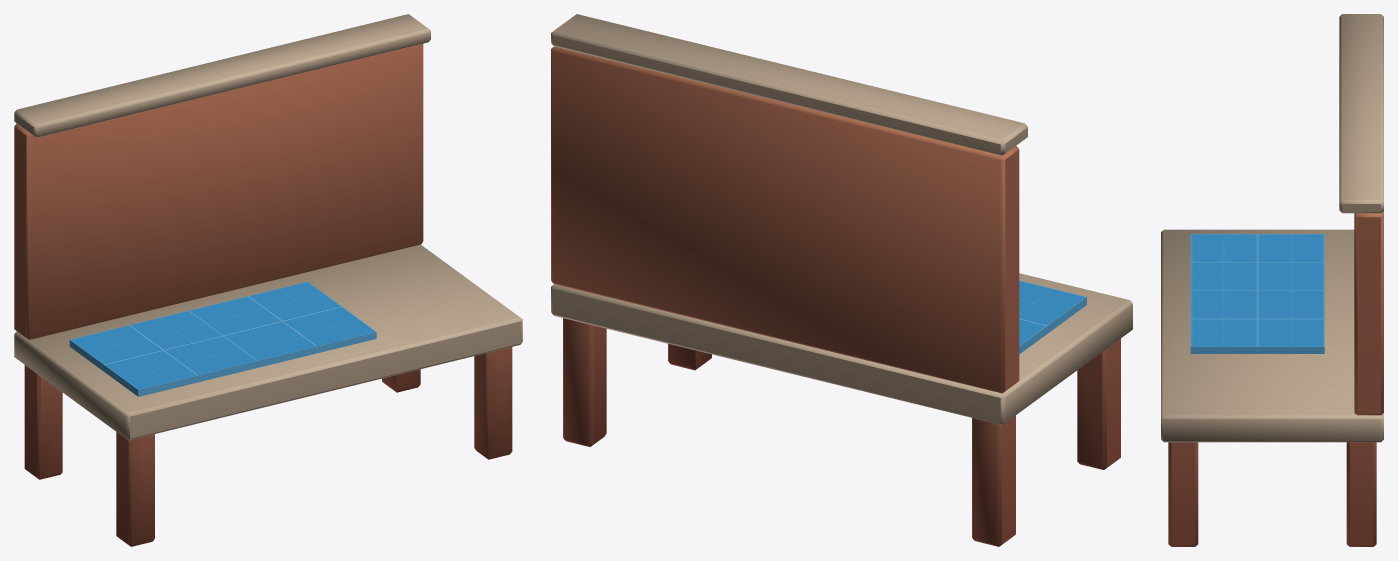
Rendered from Workbench.glb.
The picture shows the model from 3 angles, left to right: view 1: azimuth 30°, elevation 25°; view 2: azimuth 150°, elevation 25°; view 3: azimuth 270°, elevation 25°; orthographic projection. The views are drawn at different scales.
Visible parts, largest first — view 1: Workbench; view 2: Workbench; view 3: Workbench.
Part boxes in pixels (x1,y1,x2,y2): Workbench: (14, 14, 522, 546); Workbench: (551, 14, 1132, 546); Workbench: (1161, 14, 1383, 546).
Size of the model in its own units: 3 by 2.6 by 1.5.
1 material, 1 textured.
